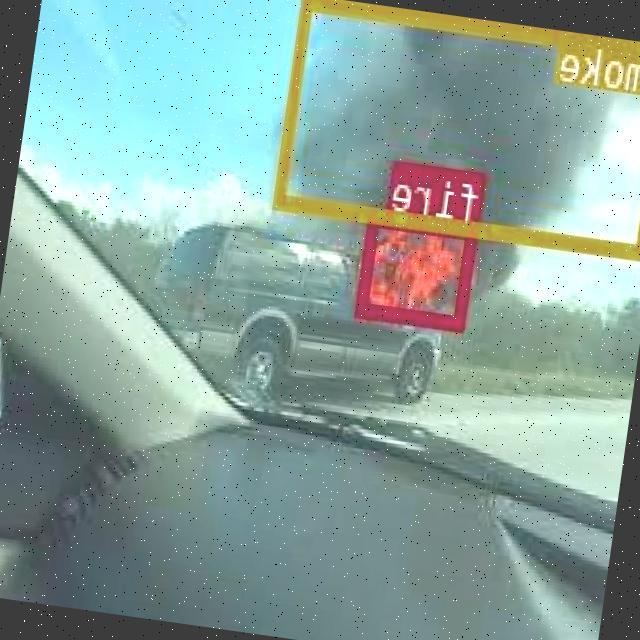fire: (359, 210, 480, 328)
smoke: (276, 0, 640, 259)
